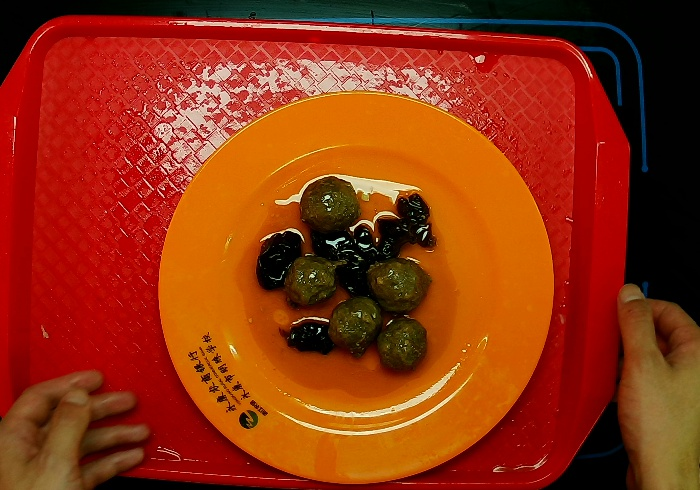YKMZ-Ju_Se_Mian_Pan: (149, 83, 559, 490)
